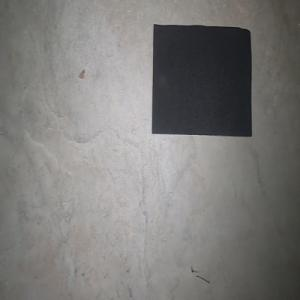PaintChip: (151, 23, 251, 136)
